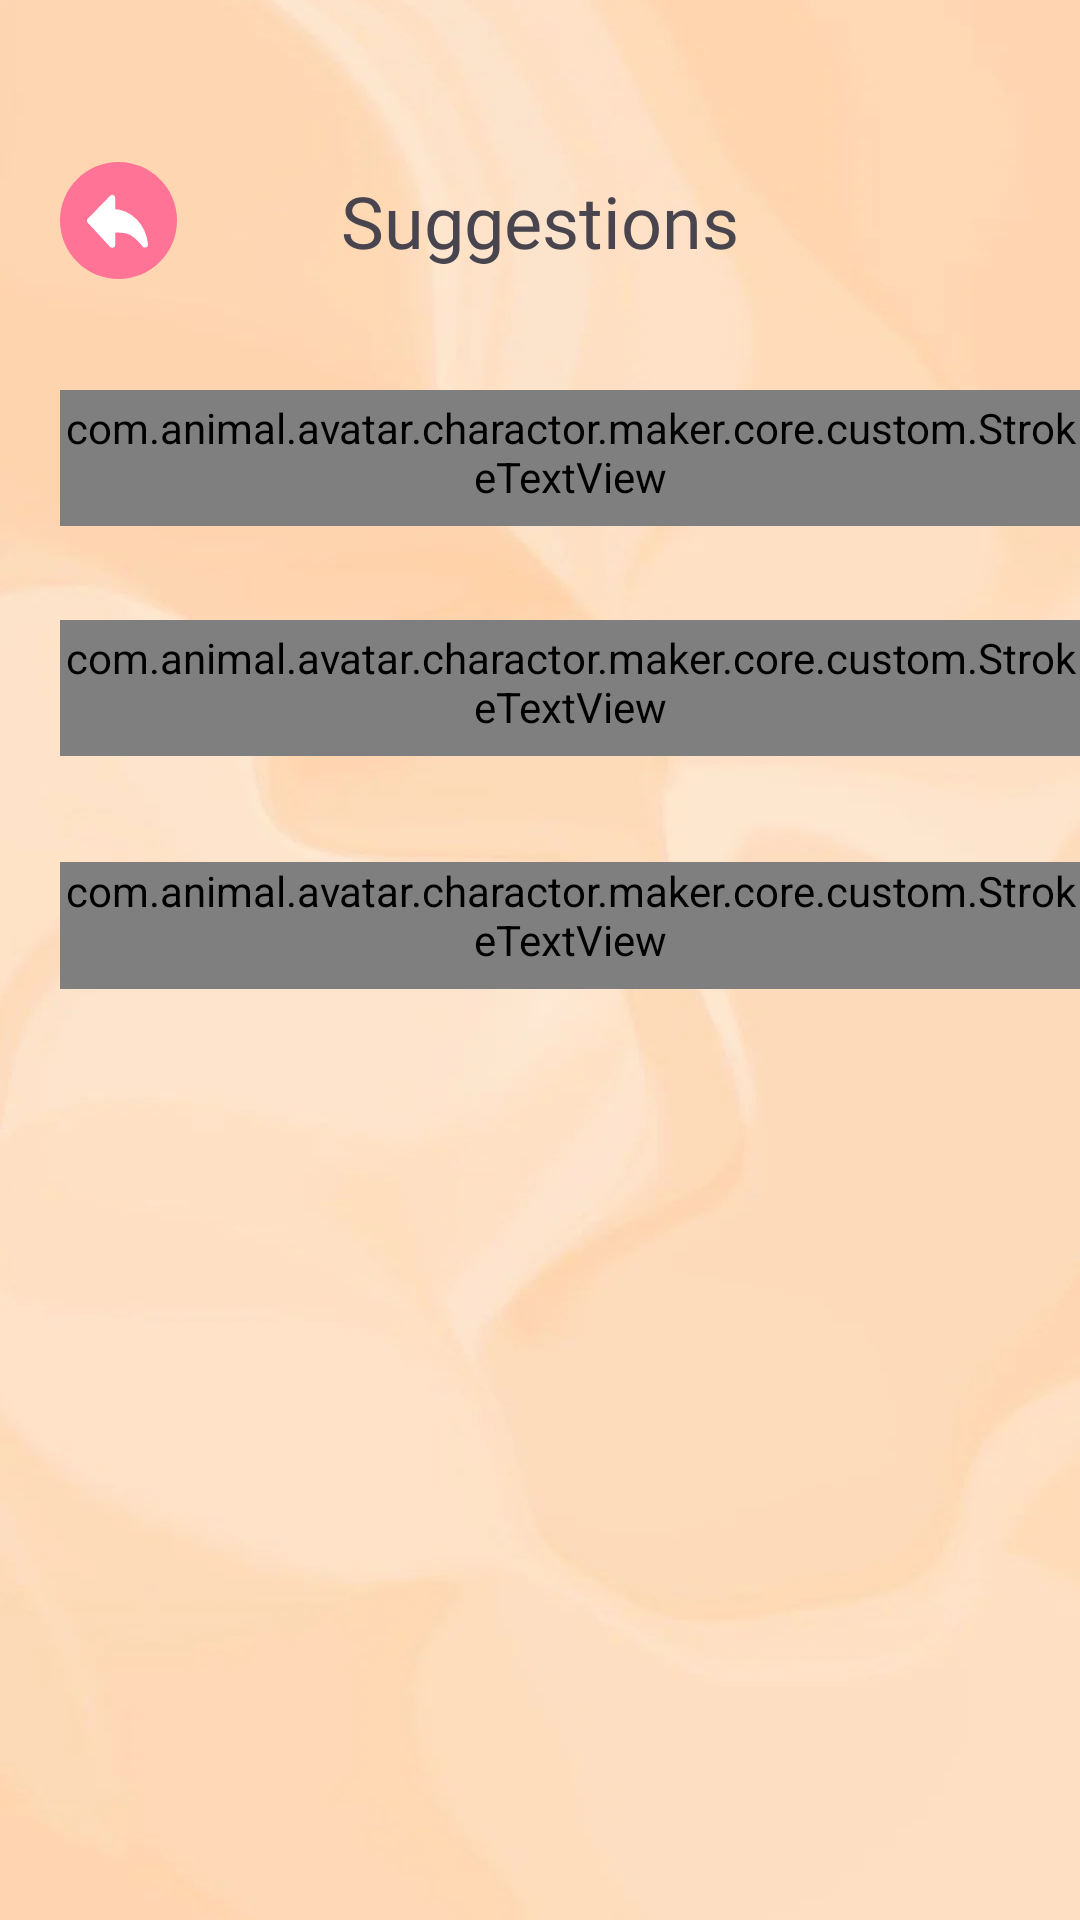

Icons on this 1080px×1920px Android screen, each with the point to tap as [x,y]:
back: [118,220]
